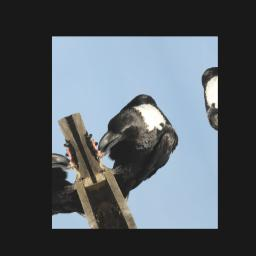Crow: (77, 85, 197, 207)
